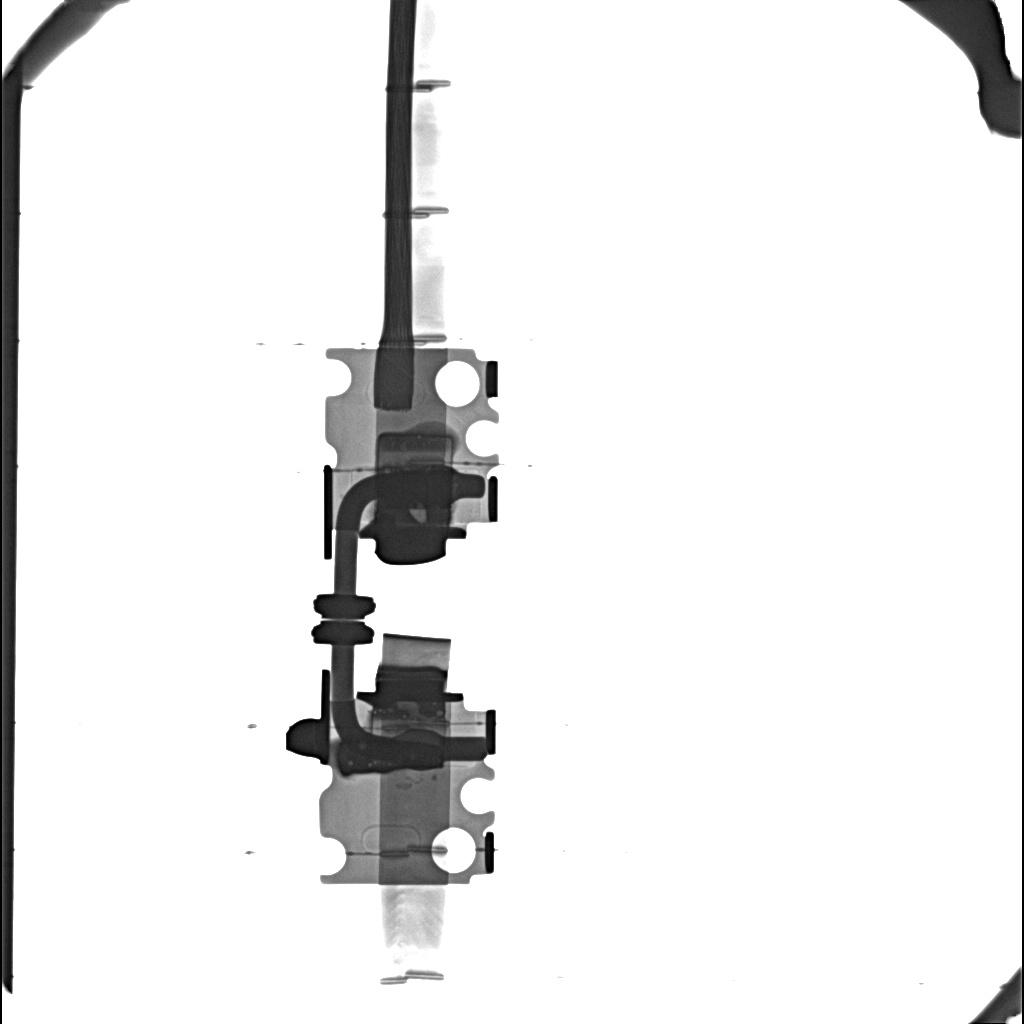defect: (339, 733, 442, 775), (376, 468, 451, 508), (376, 433, 454, 468), (409, 510, 426, 522)
